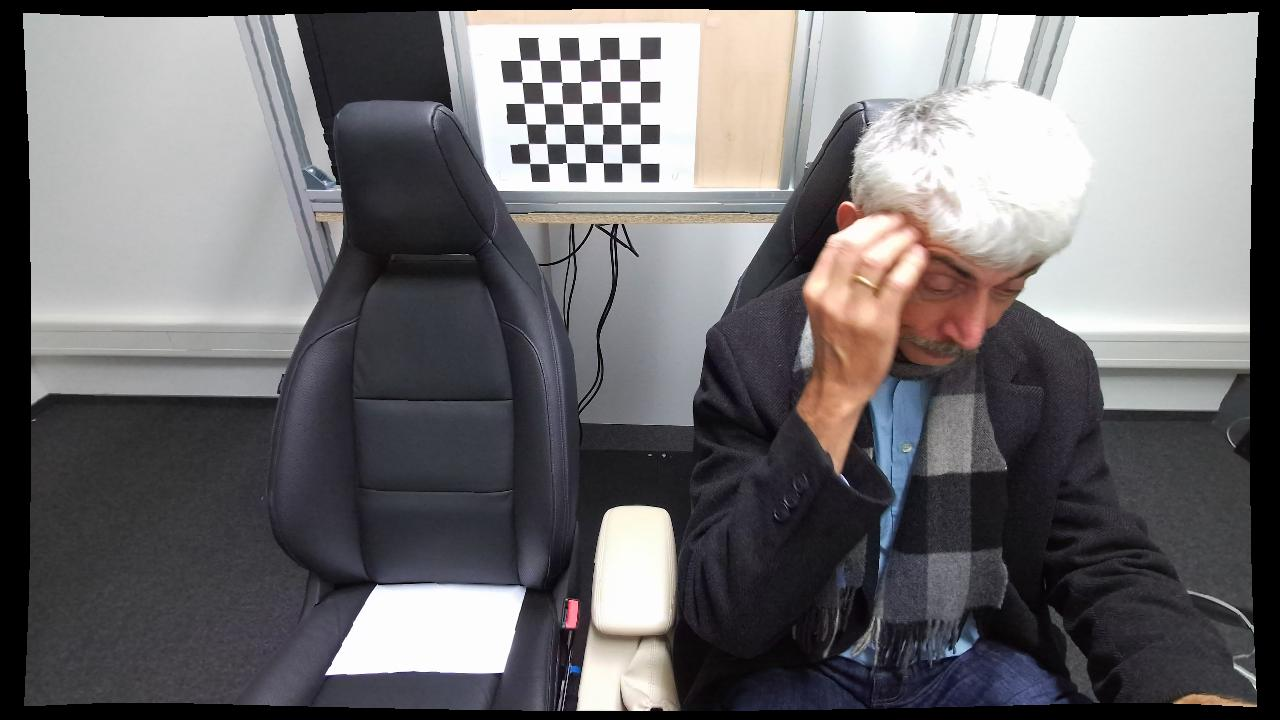Distracted: (674, 80, 1126, 711)
